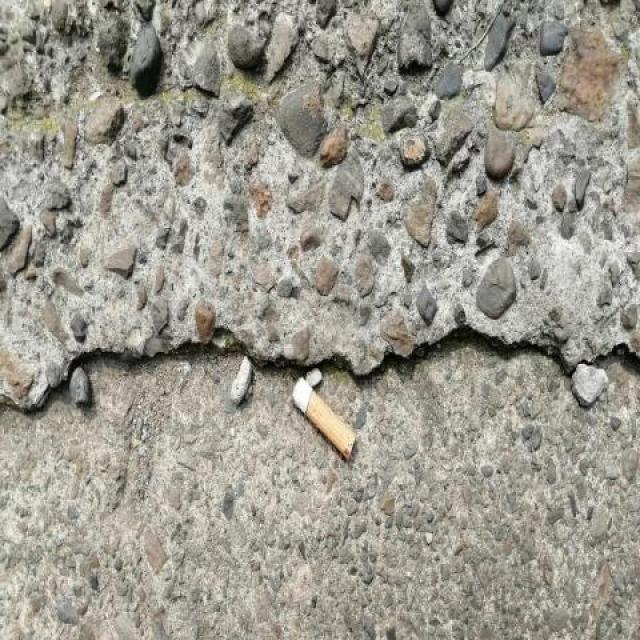non-organic waste: (286, 373, 358, 464)
